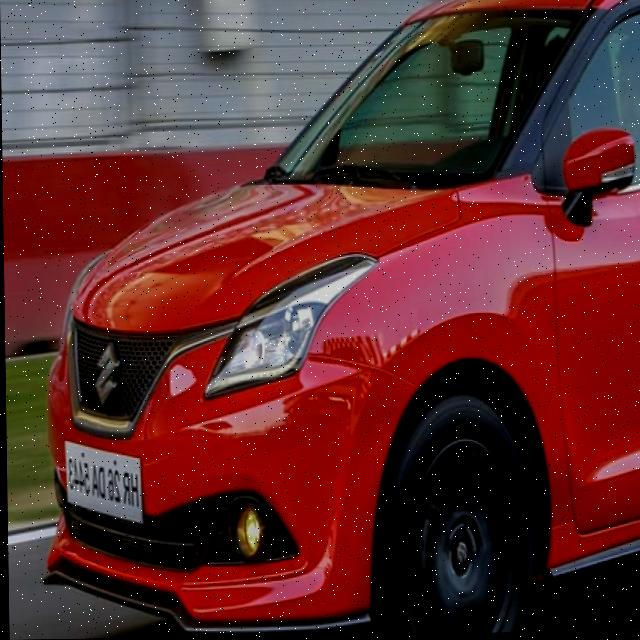plate: (63, 436, 142, 535)
